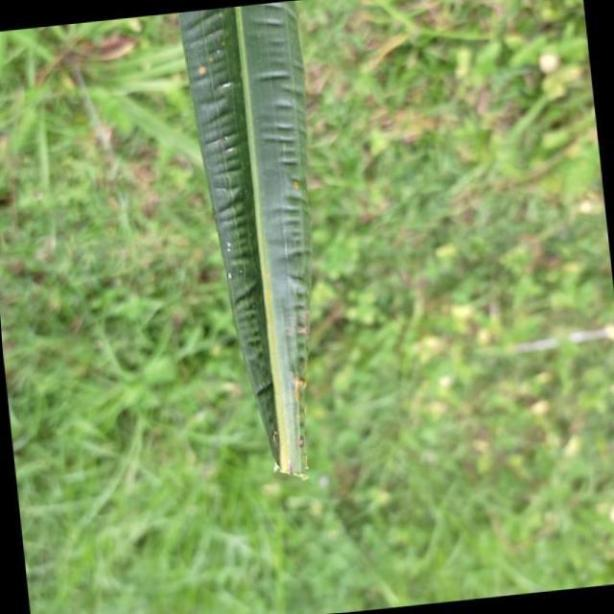Boron: (172, 0, 312, 481)
